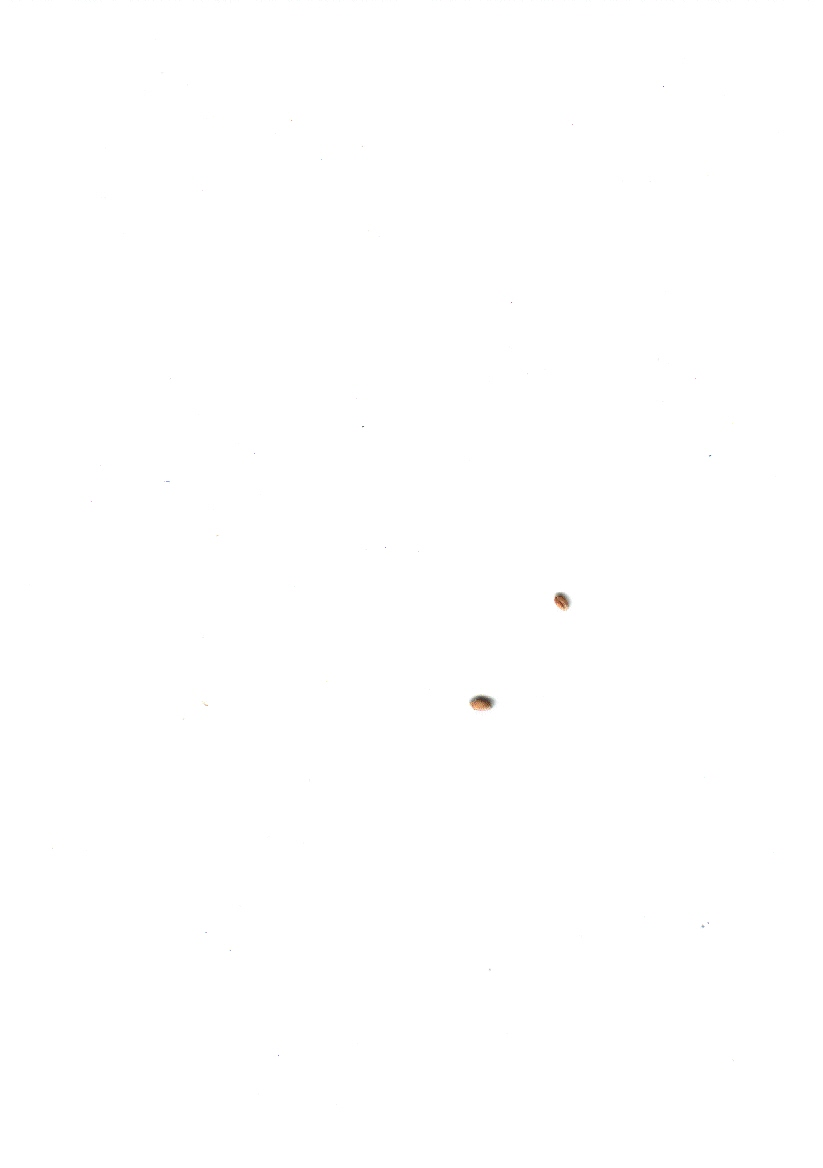grains: (458, 682, 503, 728), (546, 579, 581, 624)
